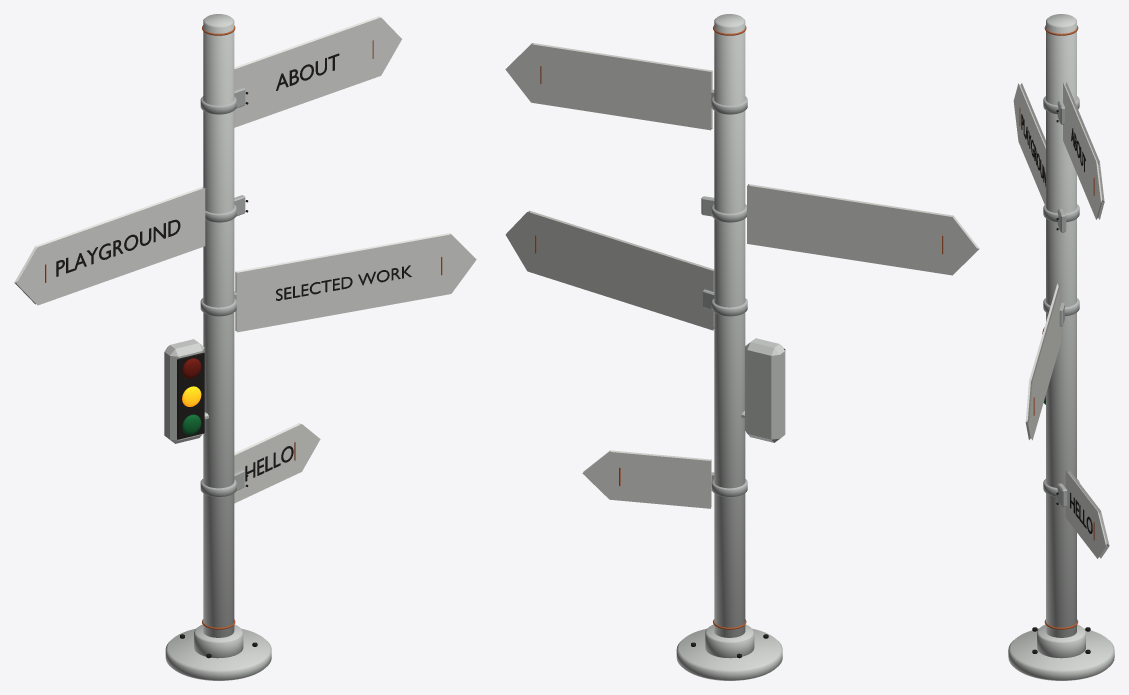
The model's file is signpost-v1.glb.
3 views of the same model, side by side, from view 1: azimuth 30°, elevation 25°; view 2: azimuth 150°, elevation 25°; view 3: azimuth 270°, elevation 25° (orthographic).
Visible parts, largest first — view 1: Pole, Sign_SELECTED_WORK, Sign_PLAYGROUND, Sign_ABOUT, Sign_HELLO, Base_Static, TrafficLight_Housing, TrafficLight_Front, Base_Collar, Text_PLAYGROUND, Text_SELECTED_WORK; view 2: Pole, Sign_PLAYGROUND, Sign_SELECTED_WORK, Sign_ABOUT, Sign_HELLO, TrafficLight_Housing, Base_Static, Base_Collar; view 3: Pole, Base_Static, Sign_ABOUT, Sign_SELECTED_WORK, Sign_HELLO, Sign_PLAYGROUND, Base_Collar, Text_PLAYGROUND, Pole_Clamp_02, Text_HELLO, Pole_Clamp_03, Text_ABOUT (+3 smaller).
Part boxes in pixels (<box>): Pole: <box>203,14,234,637</box>; Sign_SELECTED_WORK: <box>235,233,476,332</box>; Sign_PLAYGROUND: <box>14,186,205,305</box>; Sign_ABOUT: <box>234,16,401,127</box>; Sign_HELLO: <box>234,423,320,503</box>; Base_Static: <box>165,628,271,680</box>; TrafficLight_Housing: <box>164,339,204,443</box>; TrafficLight_Front: <box>177,352,204,439</box>; Base_Collar: <box>194,624,243,658</box>; Text_PLAYGROUND: <box>56,219,180,276</box>; Text_SELECTED_WORK: <box>276,265,411,300</box>; Pole: <box>714,14,745,637</box>; Sign_PLAYGROUND: <box>747,184,979,275</box>; Sign_SELECTED_WORK: <box>505,210,714,330</box>; Sign_ABOUT: <box>505,43,712,130</box>; Sign_HELLO: <box>582,450,711,508</box>; TrafficLight_Housing: <box>745,338,785,442</box>; Base_Static: <box>676,628,782,680</box>; Base_Collar: <box>705,624,754,658</box>; Pole: <box>1046,14,1076,637</box>; Base_Static: <box>1008,628,1114,680</box>; Sign_ABOUT: <box>1063,82,1104,219</box>; Sign_SELECTED_WORK: <box>1025,283,1060,440</box>; Sign_HELLO: <box>1065,469,1109,558</box>; Sign_PLAYGROUND: <box>1013,83,1045,204</box>; Base_Collar: <box>1037,624,1085,658</box>; Text_PLAYGROUND: <box>1021,114,1045,187</box>; Pole_Clamp_02: <box>1043,204,1079,222</box>; Text_HELLO: <box>1070,492,1092,533</box>; Pole_Clamp_03: <box>1043,298,1079,316</box>; Text_ABOUT: <box>1071,128,1085,172</box>.
Bounding box in the file's own units: 4.16 × 5.45 × 0.82.
